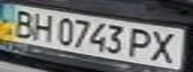0: (51, 15, 75, 47)
3: (103, 22, 130, 56)
4: (87, 20, 109, 53)
7: (69, 17, 90, 50)
B: (6, 7, 39, 38)
H: (27, 10, 57, 43)
P: (124, 25, 157, 60)
X: (145, 29, 187, 65)
